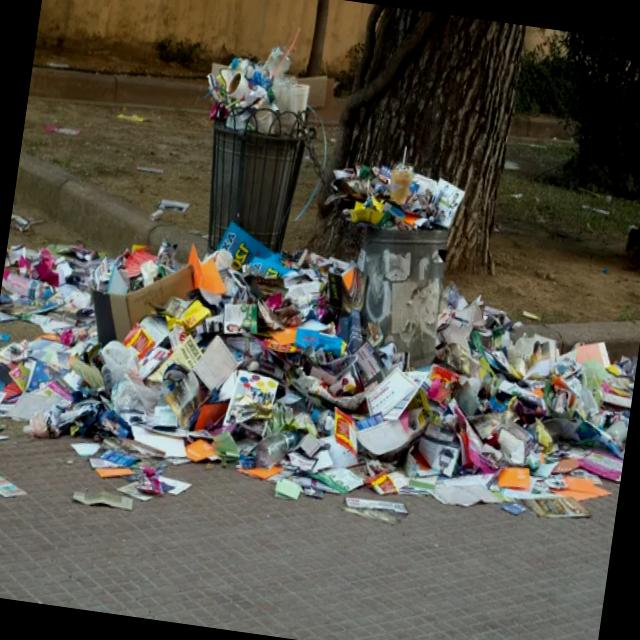garbage: (0, 136, 546, 556)
